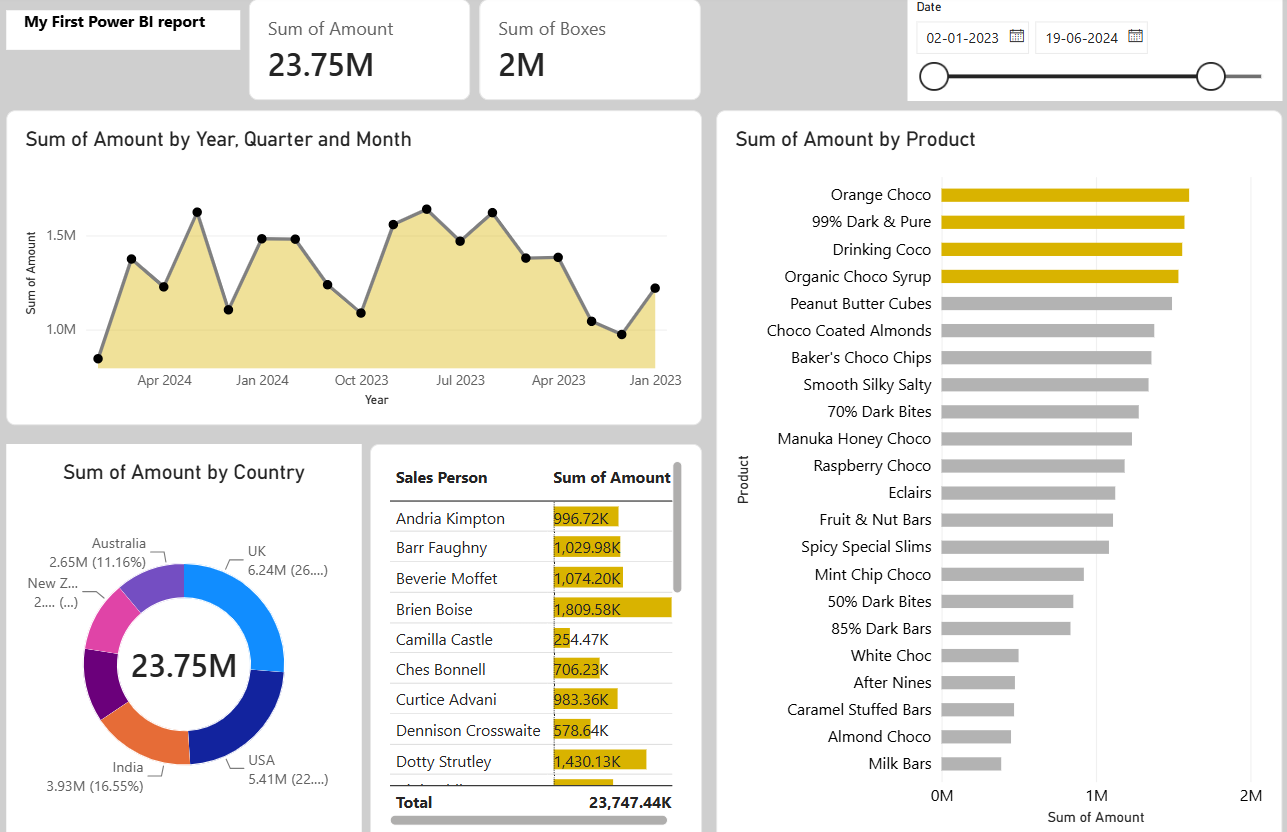

What the dashboard file says about the page in this screenshot:
{"tool":"powerbi","page":{"name":"Page 2","canvas":[1920,1080],"ordinal":1},"visuals":[{"type":"lineChart","fields":{"Category":["data.Date.Variation.Date Hierarchy.Year","data.Date.Variation.Date Hierarchy.Quarter","data.Date.Variation.Date Hierarchy.Month","data.Date.Variation.Date Hierarchy.Day"],"Y":["Sum(data.Amount)"]},"box":[10,99,618,280],"z":0},{"type":"donutChart","fields":{"Category":["data.Country"],"Y":["Sum(data.Amount)"]},"box":[10,395,316,356],"z":1000},{"type":"tableEx","fields":{"Values":["data.Sales Person","Sum(data.Amount)"]},"box":[333,395,295,356],"z":2000},{"type":"clusteredBarChart","fields":{"Category":["data.Product"],"Y":["Sum(data.Amount)"]},"box":[641,99,503,652],"z":3000},{"type":"cardVisual","fields":{"Data":["Sum(data.Amount)","Sum(data.Boxes)"]},"box":[226,0,402,90],"z":4000},{"type":"slicer","fields":{"Values":["data.Date"]},"box":[811,0,333,90],"z":5000},{"type":"textbox","box":[10,10,208,35],"z":6000}]}

Visuals, with their boxes on the page's 1920x1080 design canvas (x1, y1, x2, y2). These are canvas units, not pixel positions in the 1287x832 screenshot, which may show the page scaled, cropped or inside an application window:
lineChart - data.Date.Variation.Date Hierarchy.Year x data.Date.Variation.Date Hierarchy.Quarter: rect(10, 99, 628, 379)
donutChart - data.Country x Sum(data.Amount): rect(10, 395, 326, 751)
tableEx - data.Sales Person x Sum(data.Amount): rect(333, 395, 628, 751)
clusteredBarChart - data.Product x Sum(data.Amount): rect(641, 99, 1144, 751)
cardVisual - Sum(data.Amount) x Sum(data.Boxes): rect(226, 0, 628, 90)
slicer - data.Date: rect(811, 0, 1144, 90)
textbox: rect(10, 10, 218, 45)
